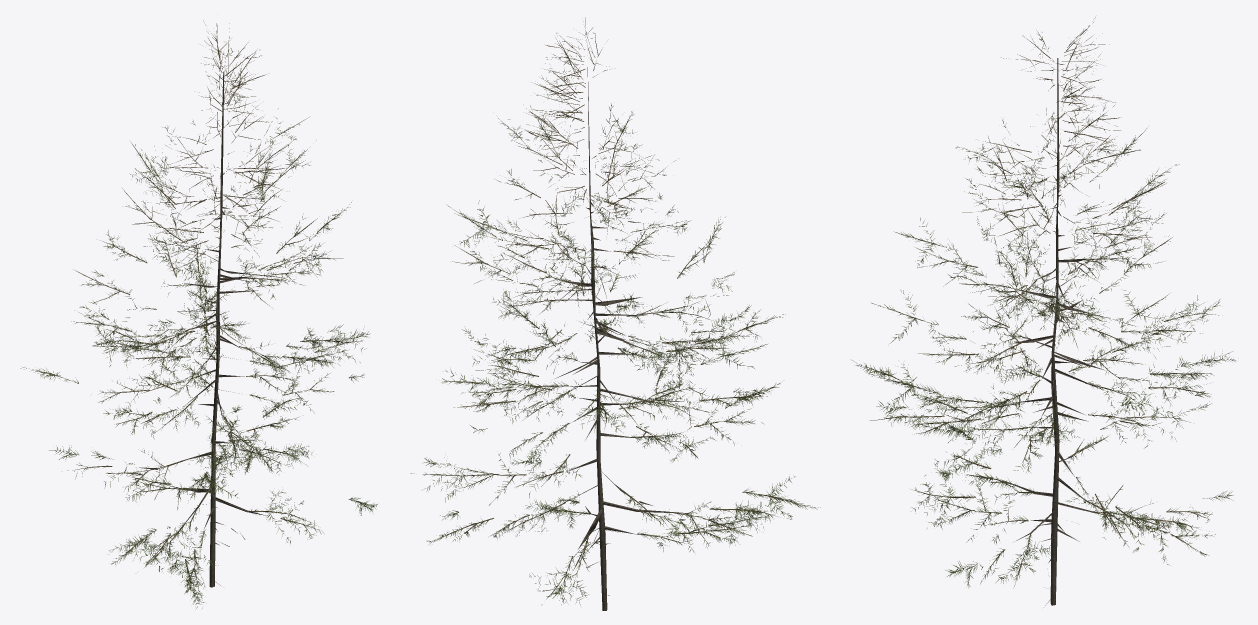
Rendered from fir-sapling-medium-a.glb.
The picture shows the model from 3 angles, left to right: view 1: azimuth 30°, elevation 25°; view 2: azimuth 150°, elevation 25°; view 3: azimuth 270°, elevation 25°; orthographic projection. The views are drawn at different scales.
Visible parts, largest first — view 1: fir_sapling_medium_a_LOD0; view 2: fir_sapling_medium_a_LOD0; view 3: fir_sapling_medium_a_LOD0.
Part boxes in pixels (x1,y1,x2,y2): fir_sapling_medium_a_LOD0: (20, 20, 377, 608); fir_sapling_medium_a_LOD0: (410, 17, 820, 610); fir_sapling_medium_a_LOD0: (852, 17, 1235, 605).
Bounding box in the file's own units: 4.91 × 8.72 × 5.18.
Materials: 3 (3 with a texture image).
